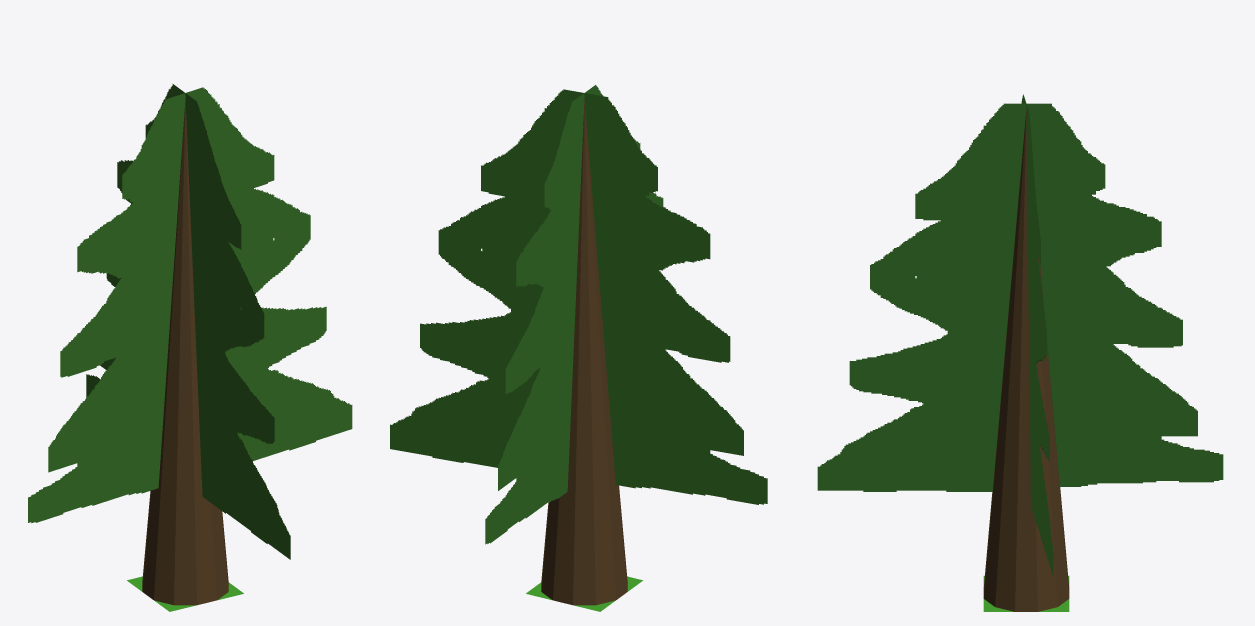
File: tree_1.gltf
3 views of the same model, side by side, from view 1: azimuth 30°, elevation 25°; view 2: azimuth 150°, elevation 25°; view 3: azimuth 270°, elevation 25° (orthographic).
Parts seen in each view (by area): view 1: plane (×2), trunk, ground; view 2: plane (×2), trunk; view 3: plane (×2), trunk.
Boxes of the visible parts, x1,y1,x2,y2 form: plane (×2): (28, 84, 352, 559); trunk: (142, 98, 228, 605); ground: (127, 576, 243, 611); plane (×2): (390, 85, 767, 544); trunk: (541, 98, 627, 605); plane (×2): (817, 94, 1223, 576); trunk: (983, 109, 1069, 611).
Size of the model in its own units: 4.96 by 6.31 by 5.
3 materials, 3 textured.
